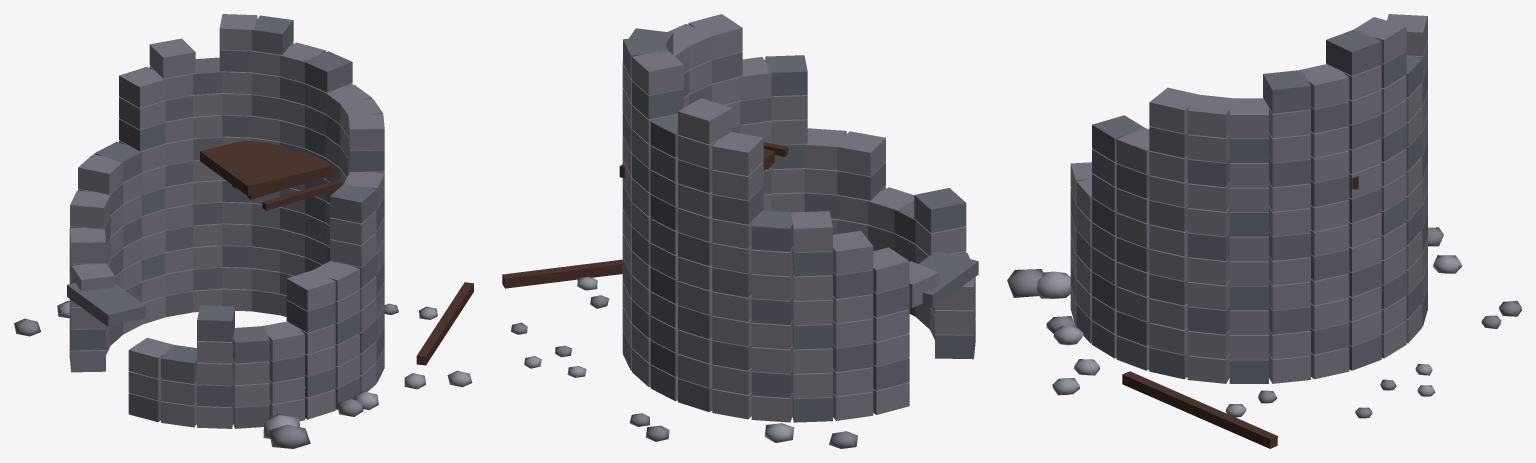
The model's file is tower_ruin.glb.
3 views of the same model, side by side, from view 1: azimuth 30°, elevation 25°; view 2: azimuth 150°, elevation 25°; view 3: azimuth 270°, elevation 25° (orthographic). The views are drawn at different scales.
Visible parts, largest first — view 1: stone0_0; view 2: stone0_0; view 3: stone0_0.
Boxes of the visible parts, box(x1,y1,x2,y2) form: stone0_0: box(14, 14, 473, 448); stone0_0: box(502, 14, 978, 448); stone0_0: box(1007, 14, 1521, 448).
Bounding box in the file's own units: 10.48 × 7.29 × 10.45.
